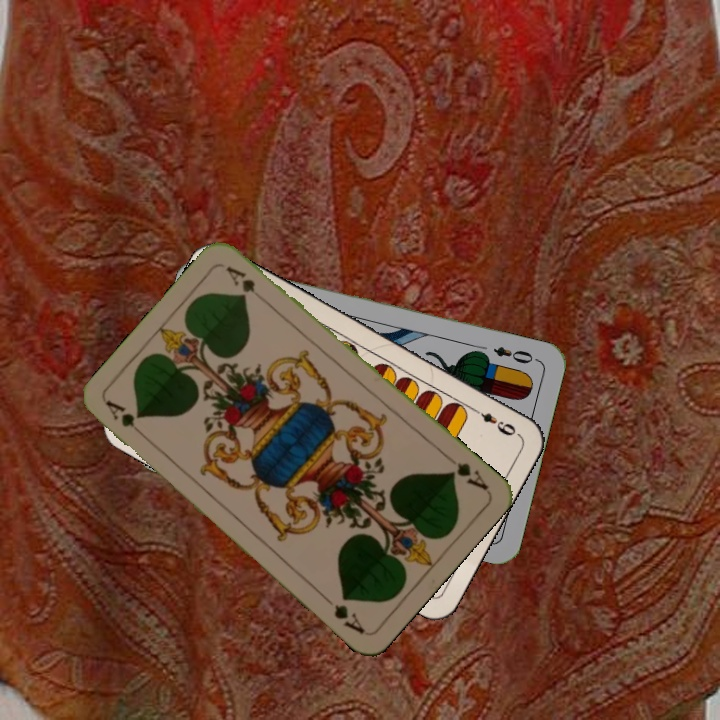E9: (467, 403, 521, 439)
EO: (489, 342, 541, 367)
GA: (102, 396, 150, 441), (441, 450, 491, 493)
